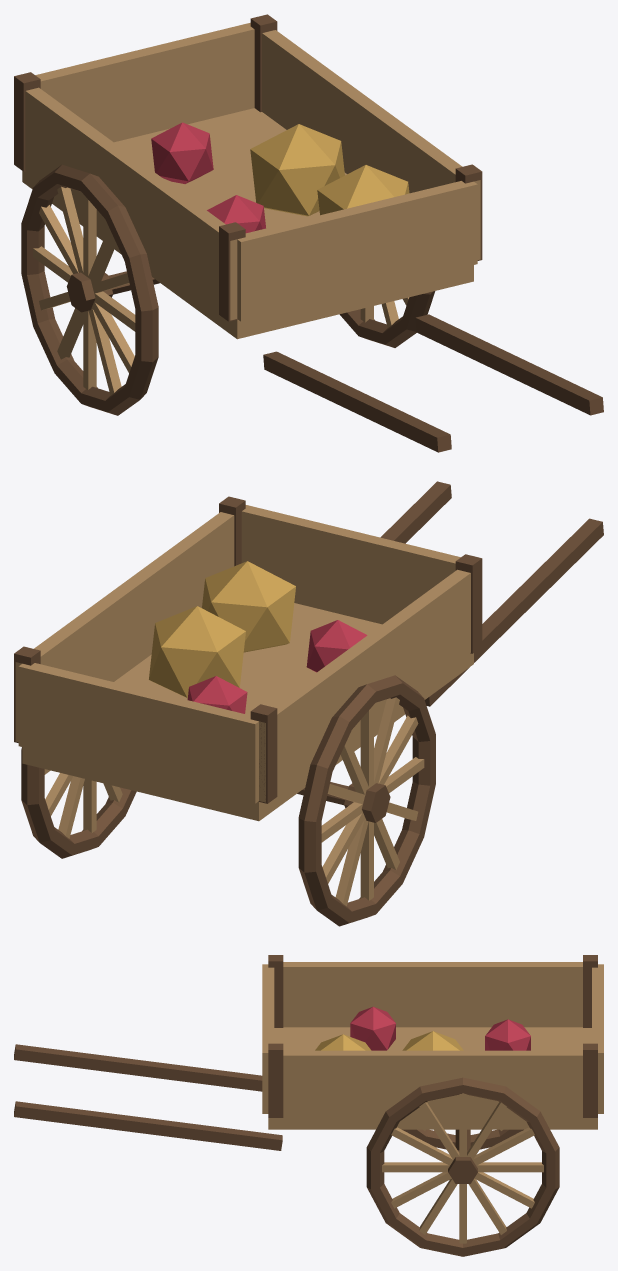
File: wooden_cart.glb
The picture shows the model from 3 angles, top to bottom: view 1: azimuth 30°, elevation 25°; view 2: azimuth 150°, elevation 25°; view 3: azimuth 270°, elevation 25°; orthographic projection. The views are drawn at different scales.
Parts seen in each view (by area): view 1: wooden_cart; view 2: wooden_cart; view 3: wooden_cart.
Boxes of the visible parts, x1,y1,x2,y2 form: wooden_cart: [14, 14, 603, 452]; wooden_cart: [14, 481, 603, 926]; wooden_cart: [14, 955, 603, 1256].
Size of the model in its own units: 1.8 by 1.49 by 3.94.
